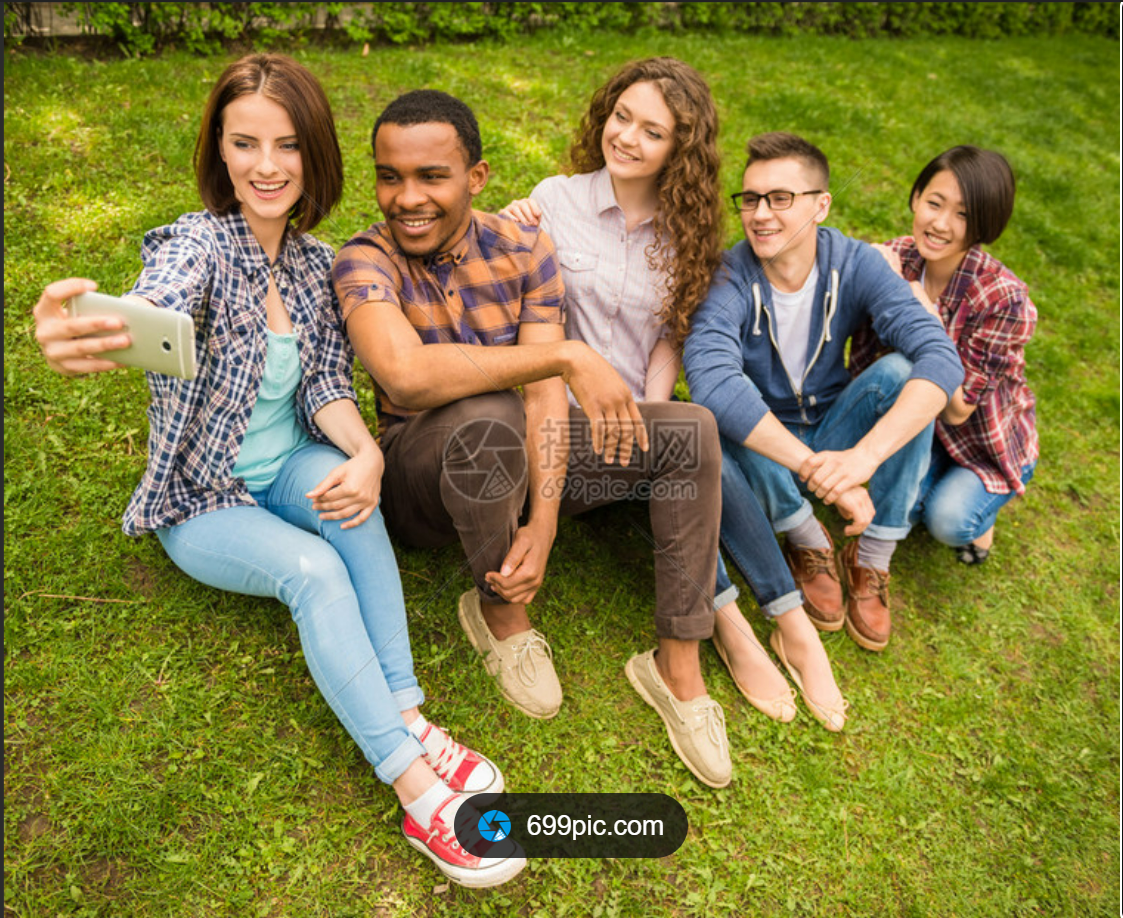people: (49, 48, 436, 827), (343, 74, 588, 624), (727, 117, 909, 739), (536, 58, 718, 668), (903, 137, 1036, 538)
